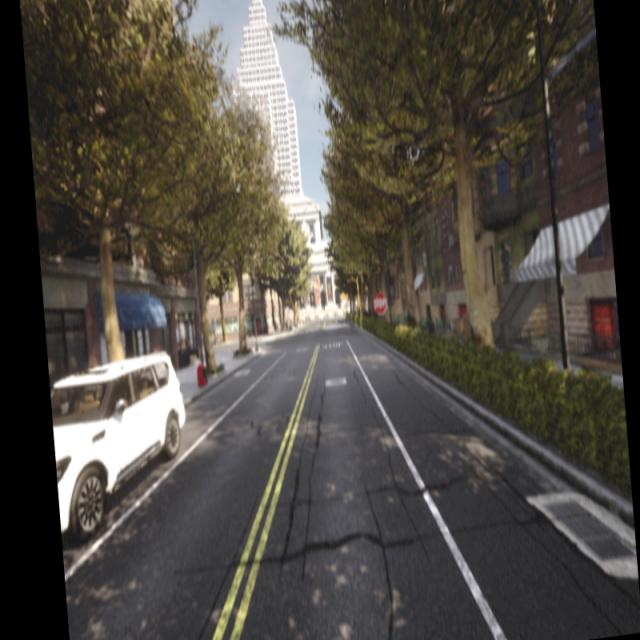stop sign: (370, 288, 389, 317)
